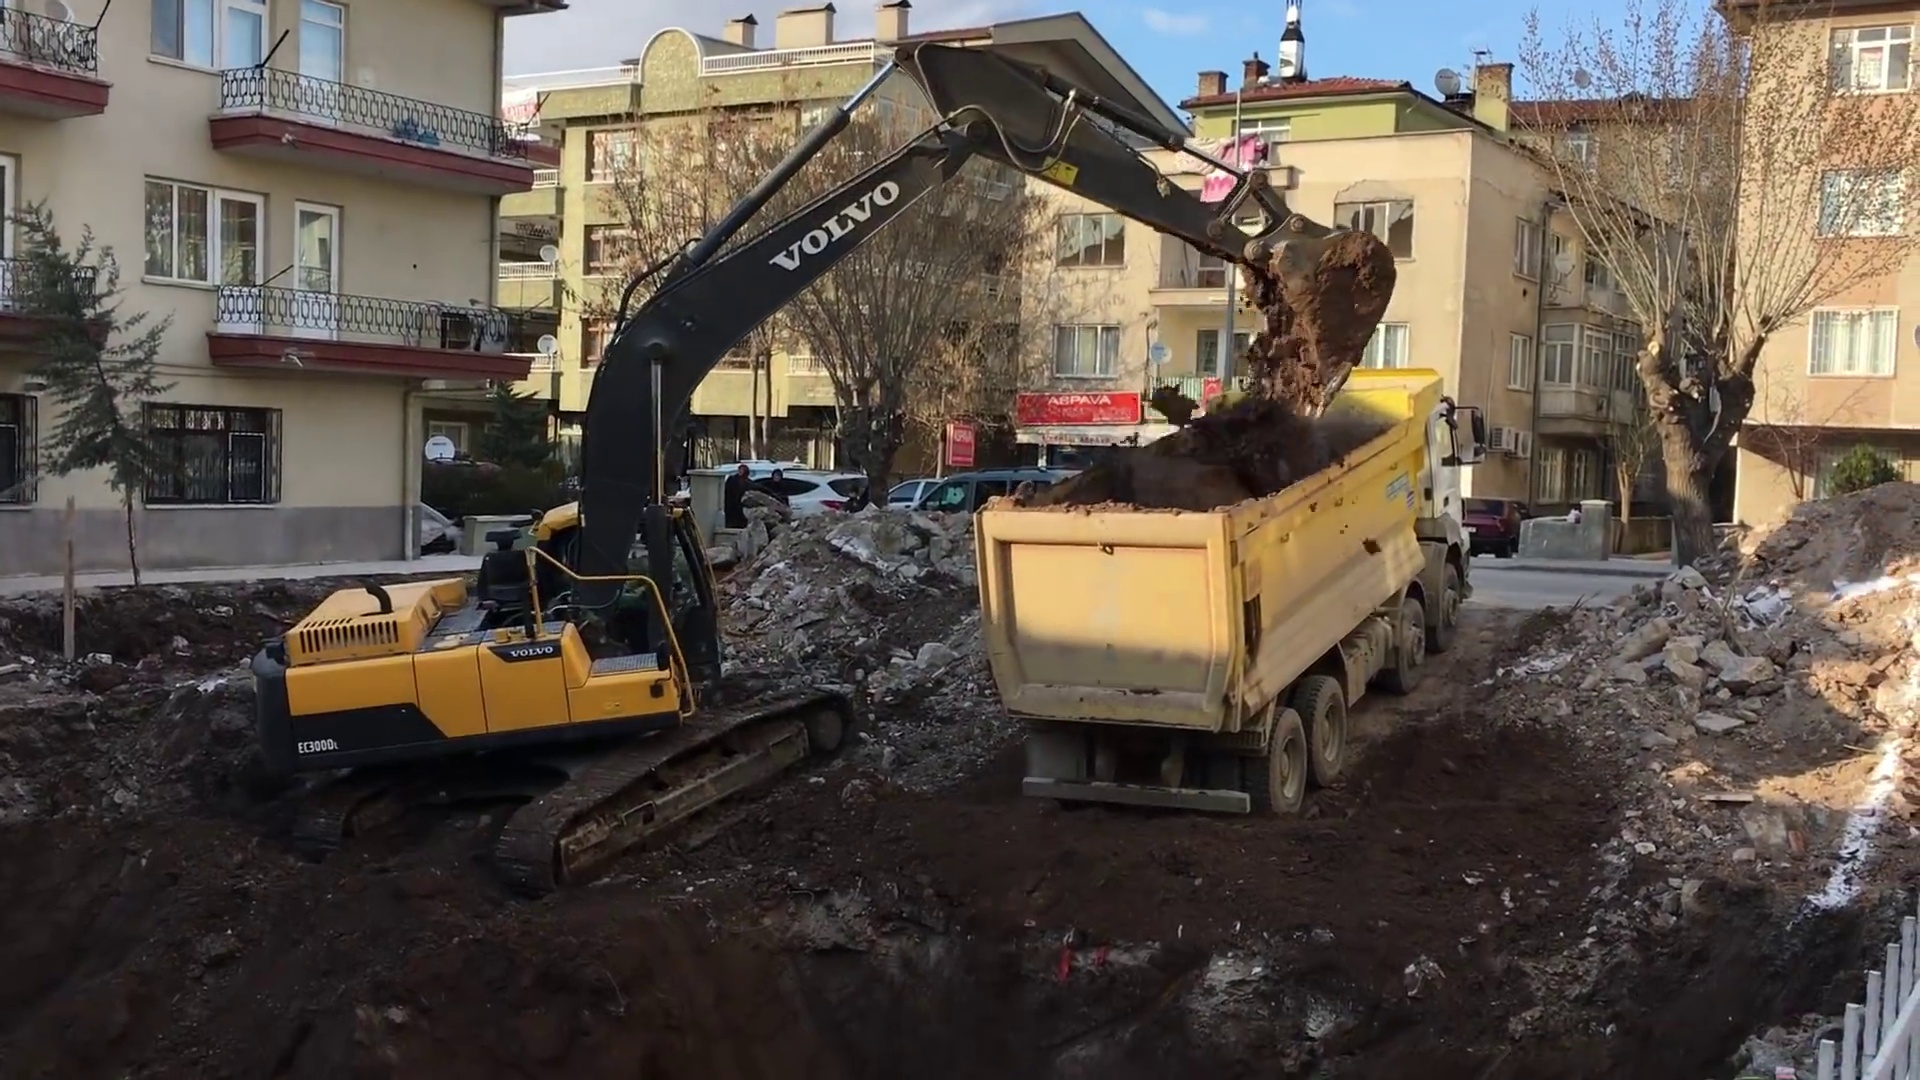car: (726, 465, 876, 535), (925, 468, 1078, 524)
excavator: (285, 40, 1394, 878)
person: (762, 469, 791, 527), (732, 461, 753, 522)
truck: (974, 364, 1487, 813)
